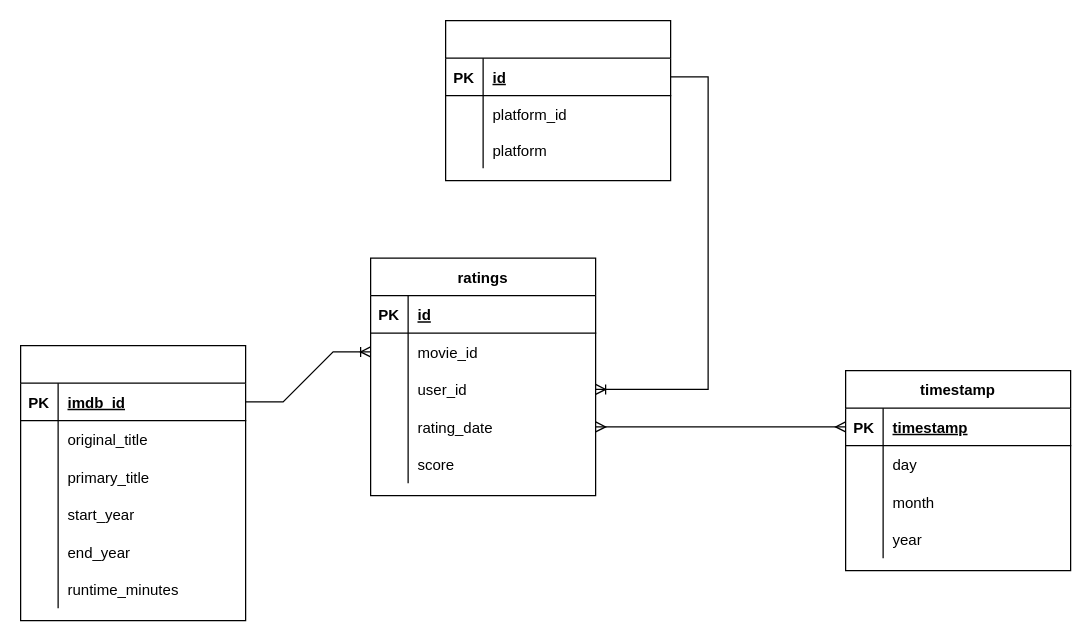
This 1091x641 diagram has some shape labels left out. Here are the shapes that lost their labels. From the top down, the box of each, then its label:
(444, 19, 671, 181): users
(19, 344, 246, 621): movies
